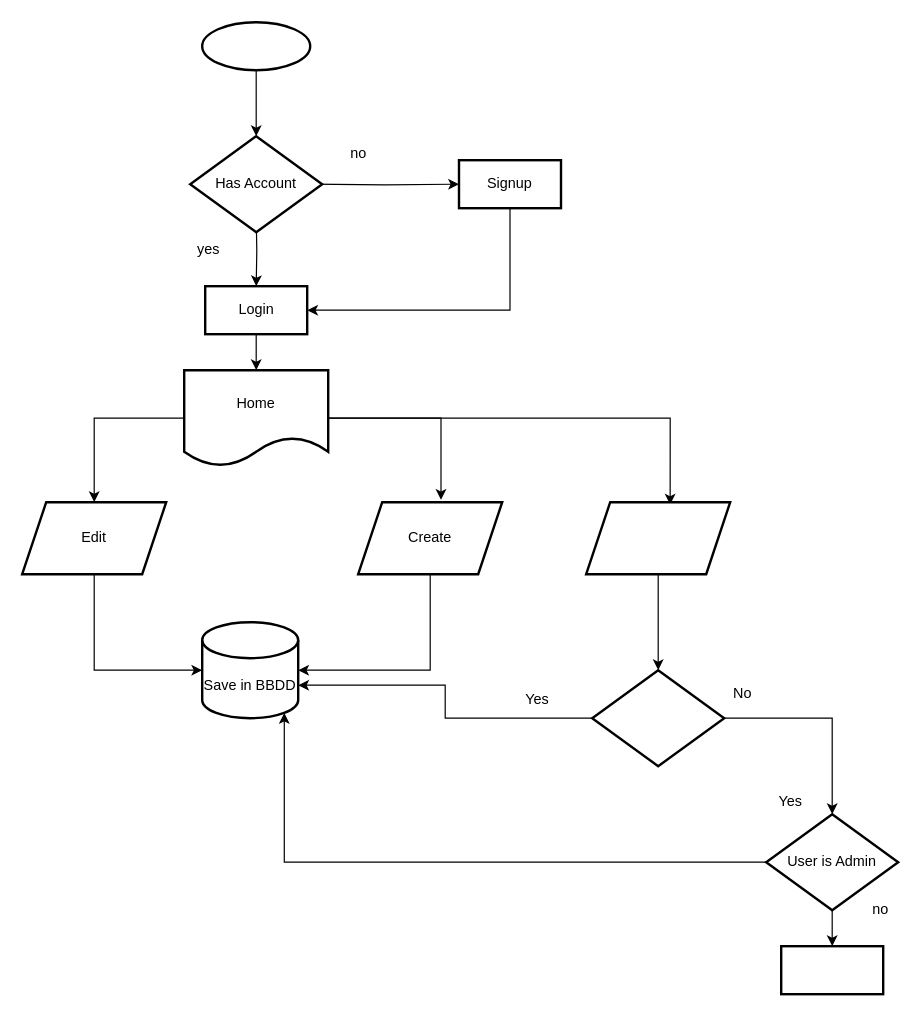
Image size: 919x1015. Some labels were removed from this diagram. Each missing label, with the centre of its shape:
"Delete" goes at point (657, 537).
"Error 403" goes at point (831, 969).
"Start" goes at point (255, 45).
"User is owner" goes at point (657, 717).
